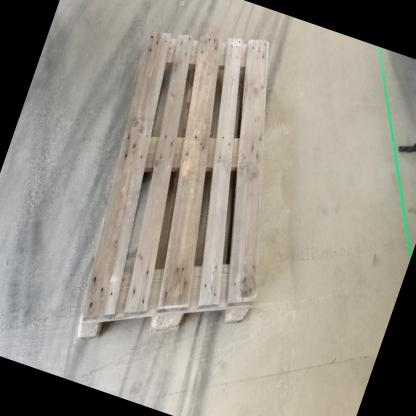BoxFace: (69, 28, 272, 346)
